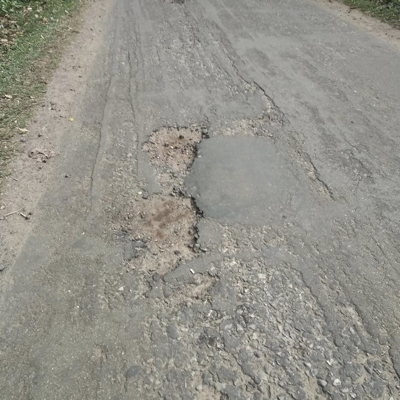pothole: (118, 190, 208, 282), (140, 121, 213, 182)
